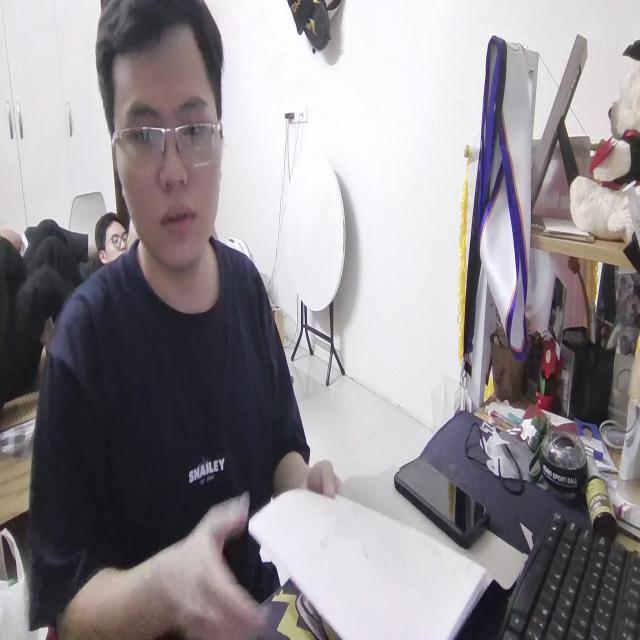book: (244, 472, 496, 640)
phone: (391, 442, 490, 550)
student: (24, 0, 341, 640)
